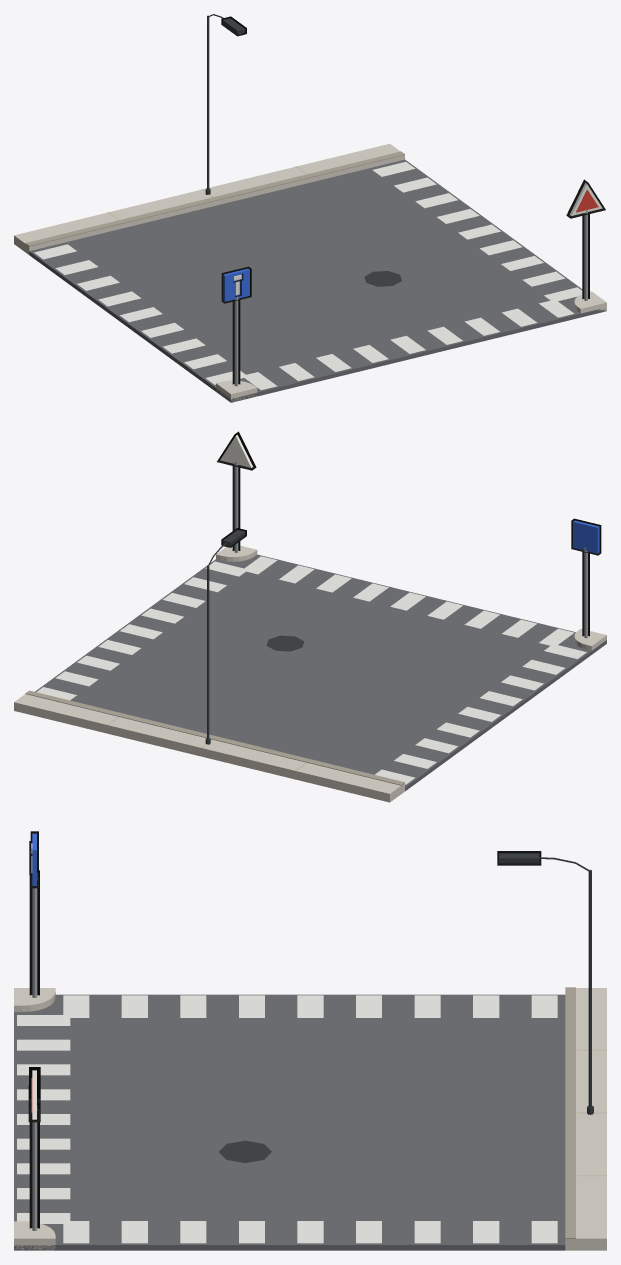
The model's file is Yol_t_cc.fbx.
3 renders of one model, top to bottom at view 1: azimuth 30°, elevation 25°; view 2: azimuth 150°, elevation 25°; view 3: azimuth 270°, elevation 25°, orthographic. The views are drawn at different scales.
Visible parts, largest first — view 1: Yol_t_cc; view 2: Yol_t_cc; view 3: Yol_t_cc.
Boxes of the visible parts, box(x1,y1,x2,y2) form: Yol_t_cc: box(14, 14, 606, 402); Yol_t_cc: box(14, 431, 606, 802); Yol_t_cc: box(14, 831, 606, 1250).
Size of the model in its own units: 10.13 by 5.04 by 10.
